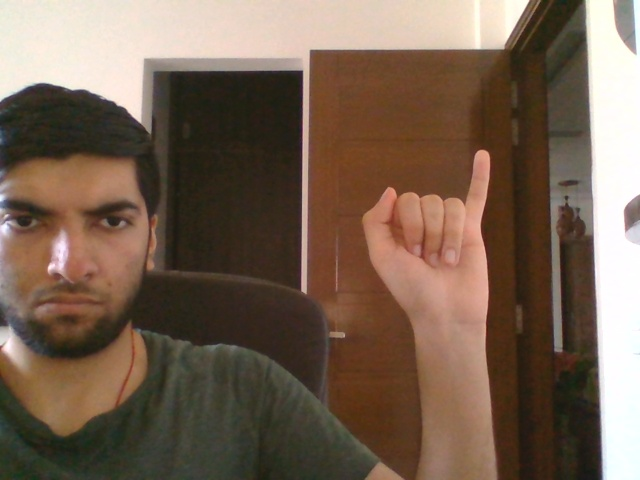LetterI: (361, 148, 489, 327)
